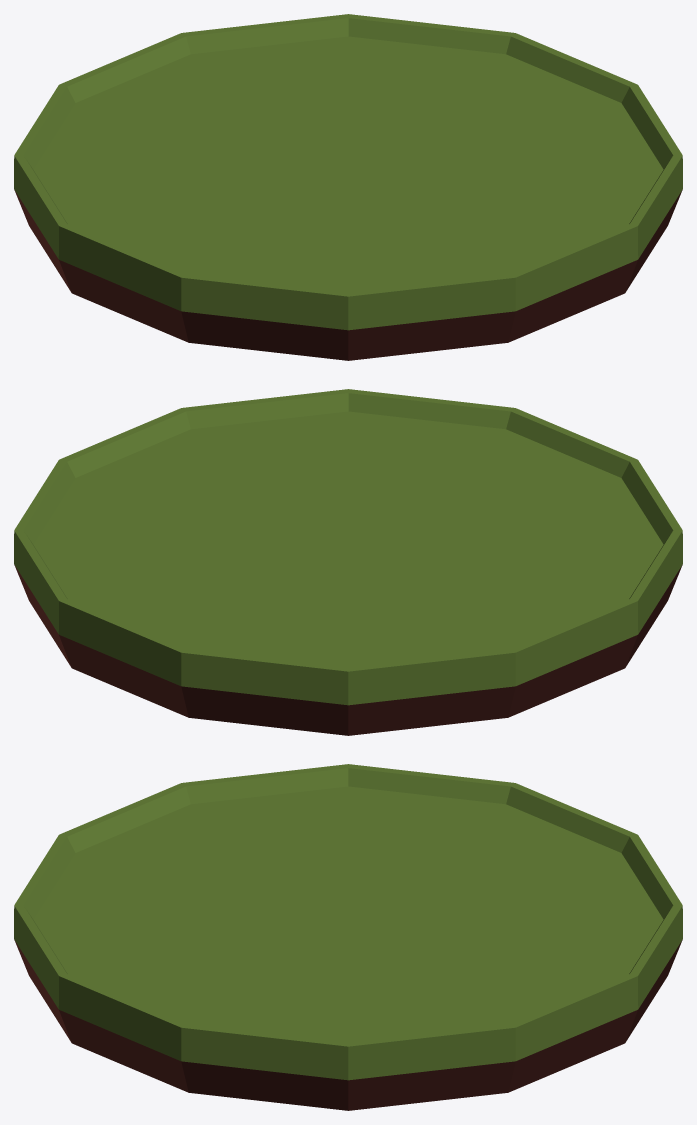
Rendered from Leaf_2.fbx.
3 renders of one model, top to bottom at view 1: azimuth 30°, elevation 25°; view 2: azimuth 150°, elevation 25°; view 3: azimuth 270°, elevation 25°, orthographic.
Visible parts, largest first — view 1: Leaf_2; view 2: Leaf_2; view 3: Leaf_2.
Boxes of the visible parts, left/top/right/bottom form: Leaf_2: left=14, top=14, right=682, bottom=360; Leaf_2: left=14, top=389, right=682, bottom=735; Leaf_2: left=14, top=764, right=682, bottom=1110.
Bounding box in the file's own units: 74.99 × 8.72 × 74.99.
